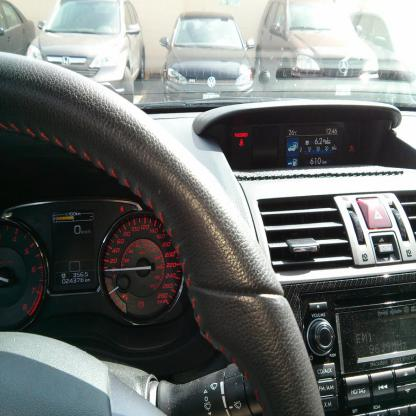Car: (1, 0, 415, 415), (26, 0, 144, 104), (257, 0, 380, 96), (159, 11, 255, 100), (0, 0, 35, 54)
